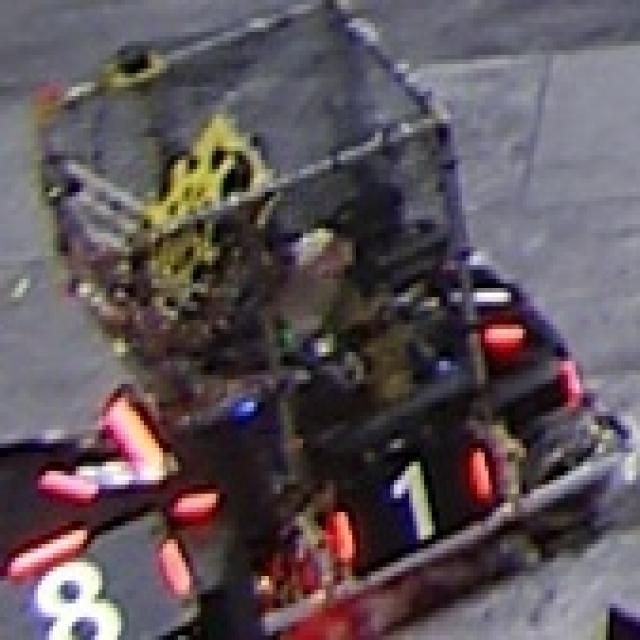R1: (330, 448, 492, 562)
